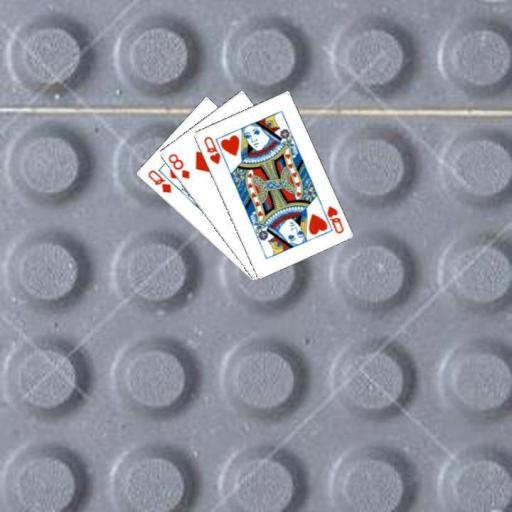8D: (165, 150, 192, 181)
QD: (144, 166, 173, 195)
QH: (317, 202, 345, 235), (200, 133, 222, 166)
